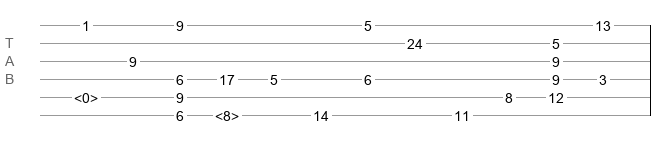1: (82, 18, 90, 28)
11: (454, 108, 470, 118)
12: (548, 90, 564, 100)
13: (595, 18, 611, 28)
14: (313, 108, 329, 118)
17: (219, 72, 235, 82)
24: (407, 36, 423, 46)
3: (599, 72, 607, 82)
5: (270, 72, 278, 82), (364, 18, 372, 28), (552, 36, 560, 46)
6: (176, 108, 184, 118), (176, 72, 184, 82), (364, 72, 372, 82)
8: (505, 90, 513, 100)
9: (129, 54, 137, 64), (176, 18, 184, 28), (176, 90, 184, 100), (552, 72, 560, 82), (552, 54, 560, 64)
harmonic: (74, 90, 98, 100), (215, 108, 239, 118)
